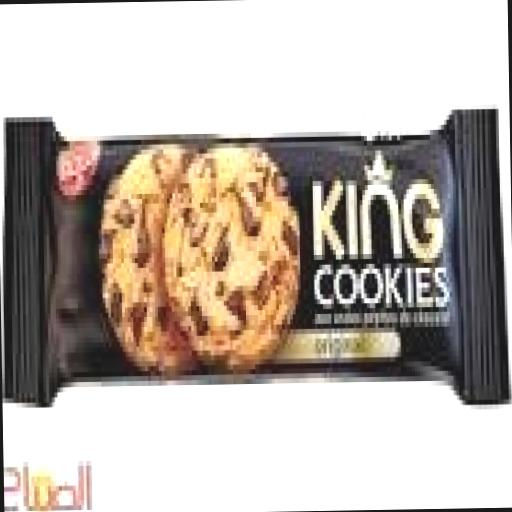king_cooking: (0, 74, 512, 442)
